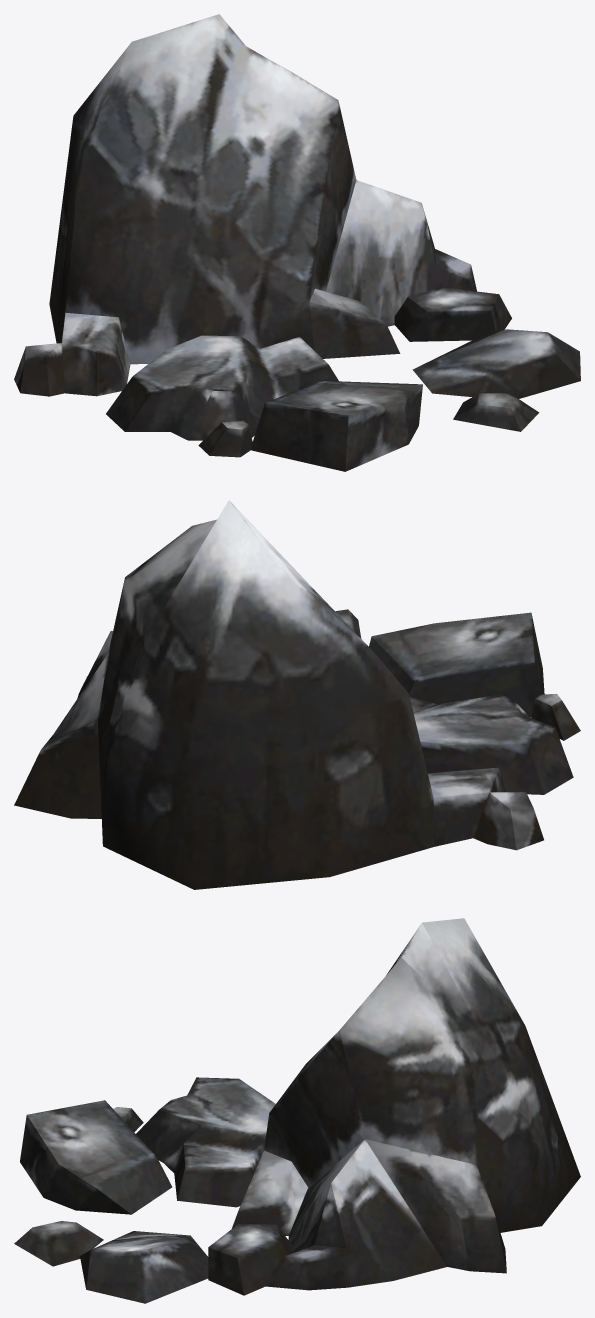
Rendered from 2005_Item_shitou_6.FBX.
The picture shows the model from 3 angles, top to bottom: view 1: azimuth 30°, elevation 25°; view 2: azimuth 150°, elevation 25°; view 3: azimuth 270°, elevation 25°; orthographic projection. The views are drawn at different scales.
Visible parts, largest first — view 1: 2005_Item_shitou_6; view 2: 2005_Item_shitou_6; view 3: 2005_Item_shitou_6.
Boxes of the visible parts, box(x1,y1,x2,y2) form: 2005_Item_shitou_6: box(14, 14, 580, 471); 2005_Item_shitou_6: box(14, 500, 580, 889); 2005_Item_shitou_6: box(14, 918, 580, 1303).
Size of the model in its own units: 228 by 137 by 249.
